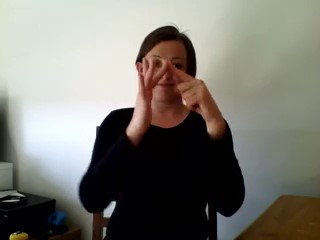I: (131, 52, 217, 136)
